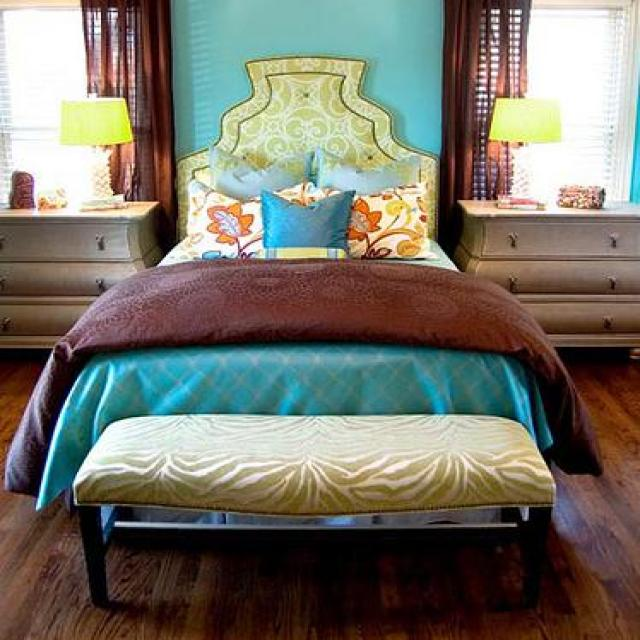bed: (0, 52, 604, 612)
